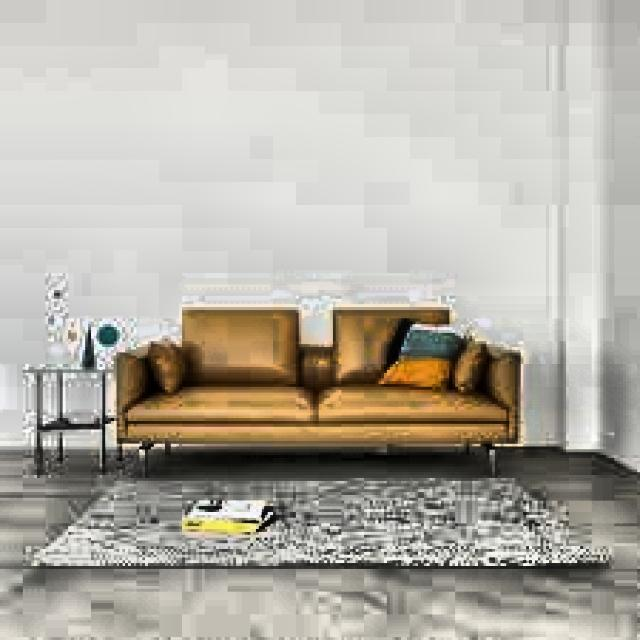sofa: (117, 304, 558, 481)
